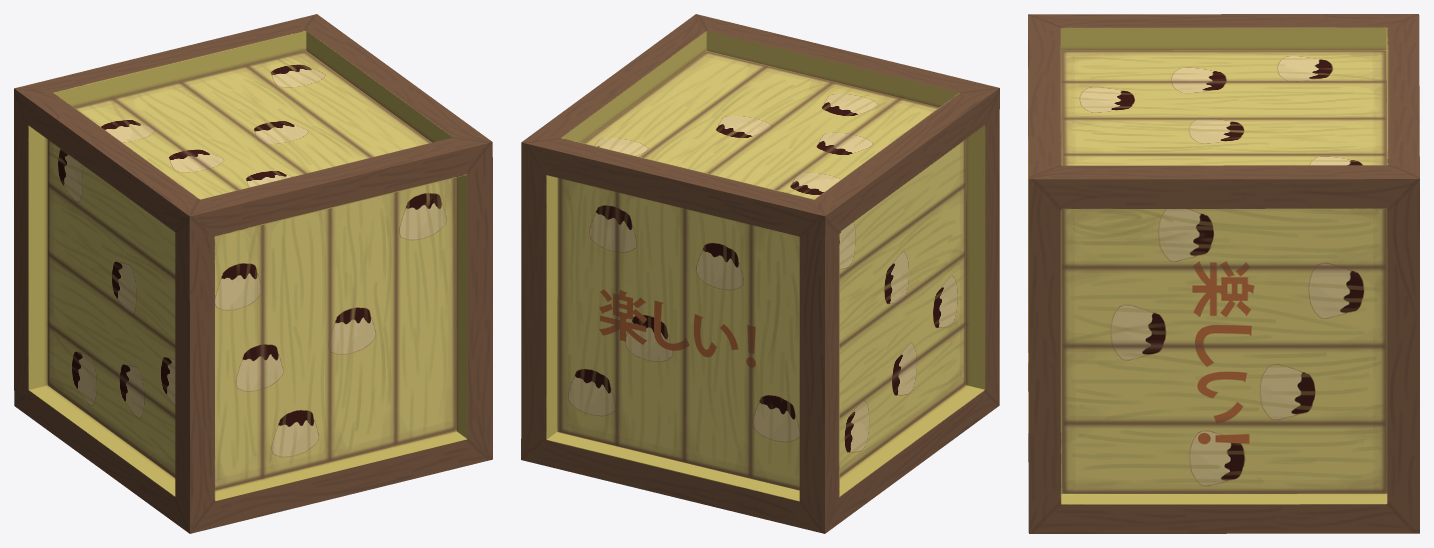
3 renders of one model, left to right at view 1: azimuth 30°, elevation 25°; view 2: azimuth 150°, elevation 25°; view 3: azimuth 270°, elevation 25°, orthographic. The views are drawn at different scales.
Visible parts, largest first — view 1: cube1; view 2: cube1; view 3: cube1.
Boxes of the visible parts, box(x1,y1,x2,y2) form: cube1: box(14, 14, 492, 533); cube1: box(521, 14, 999, 533); cube1: box(1028, 14, 1419, 533).
Bounding box in the file's own units: 1 × 1 × 1.
Materials: 1 (1 with a texture image).
